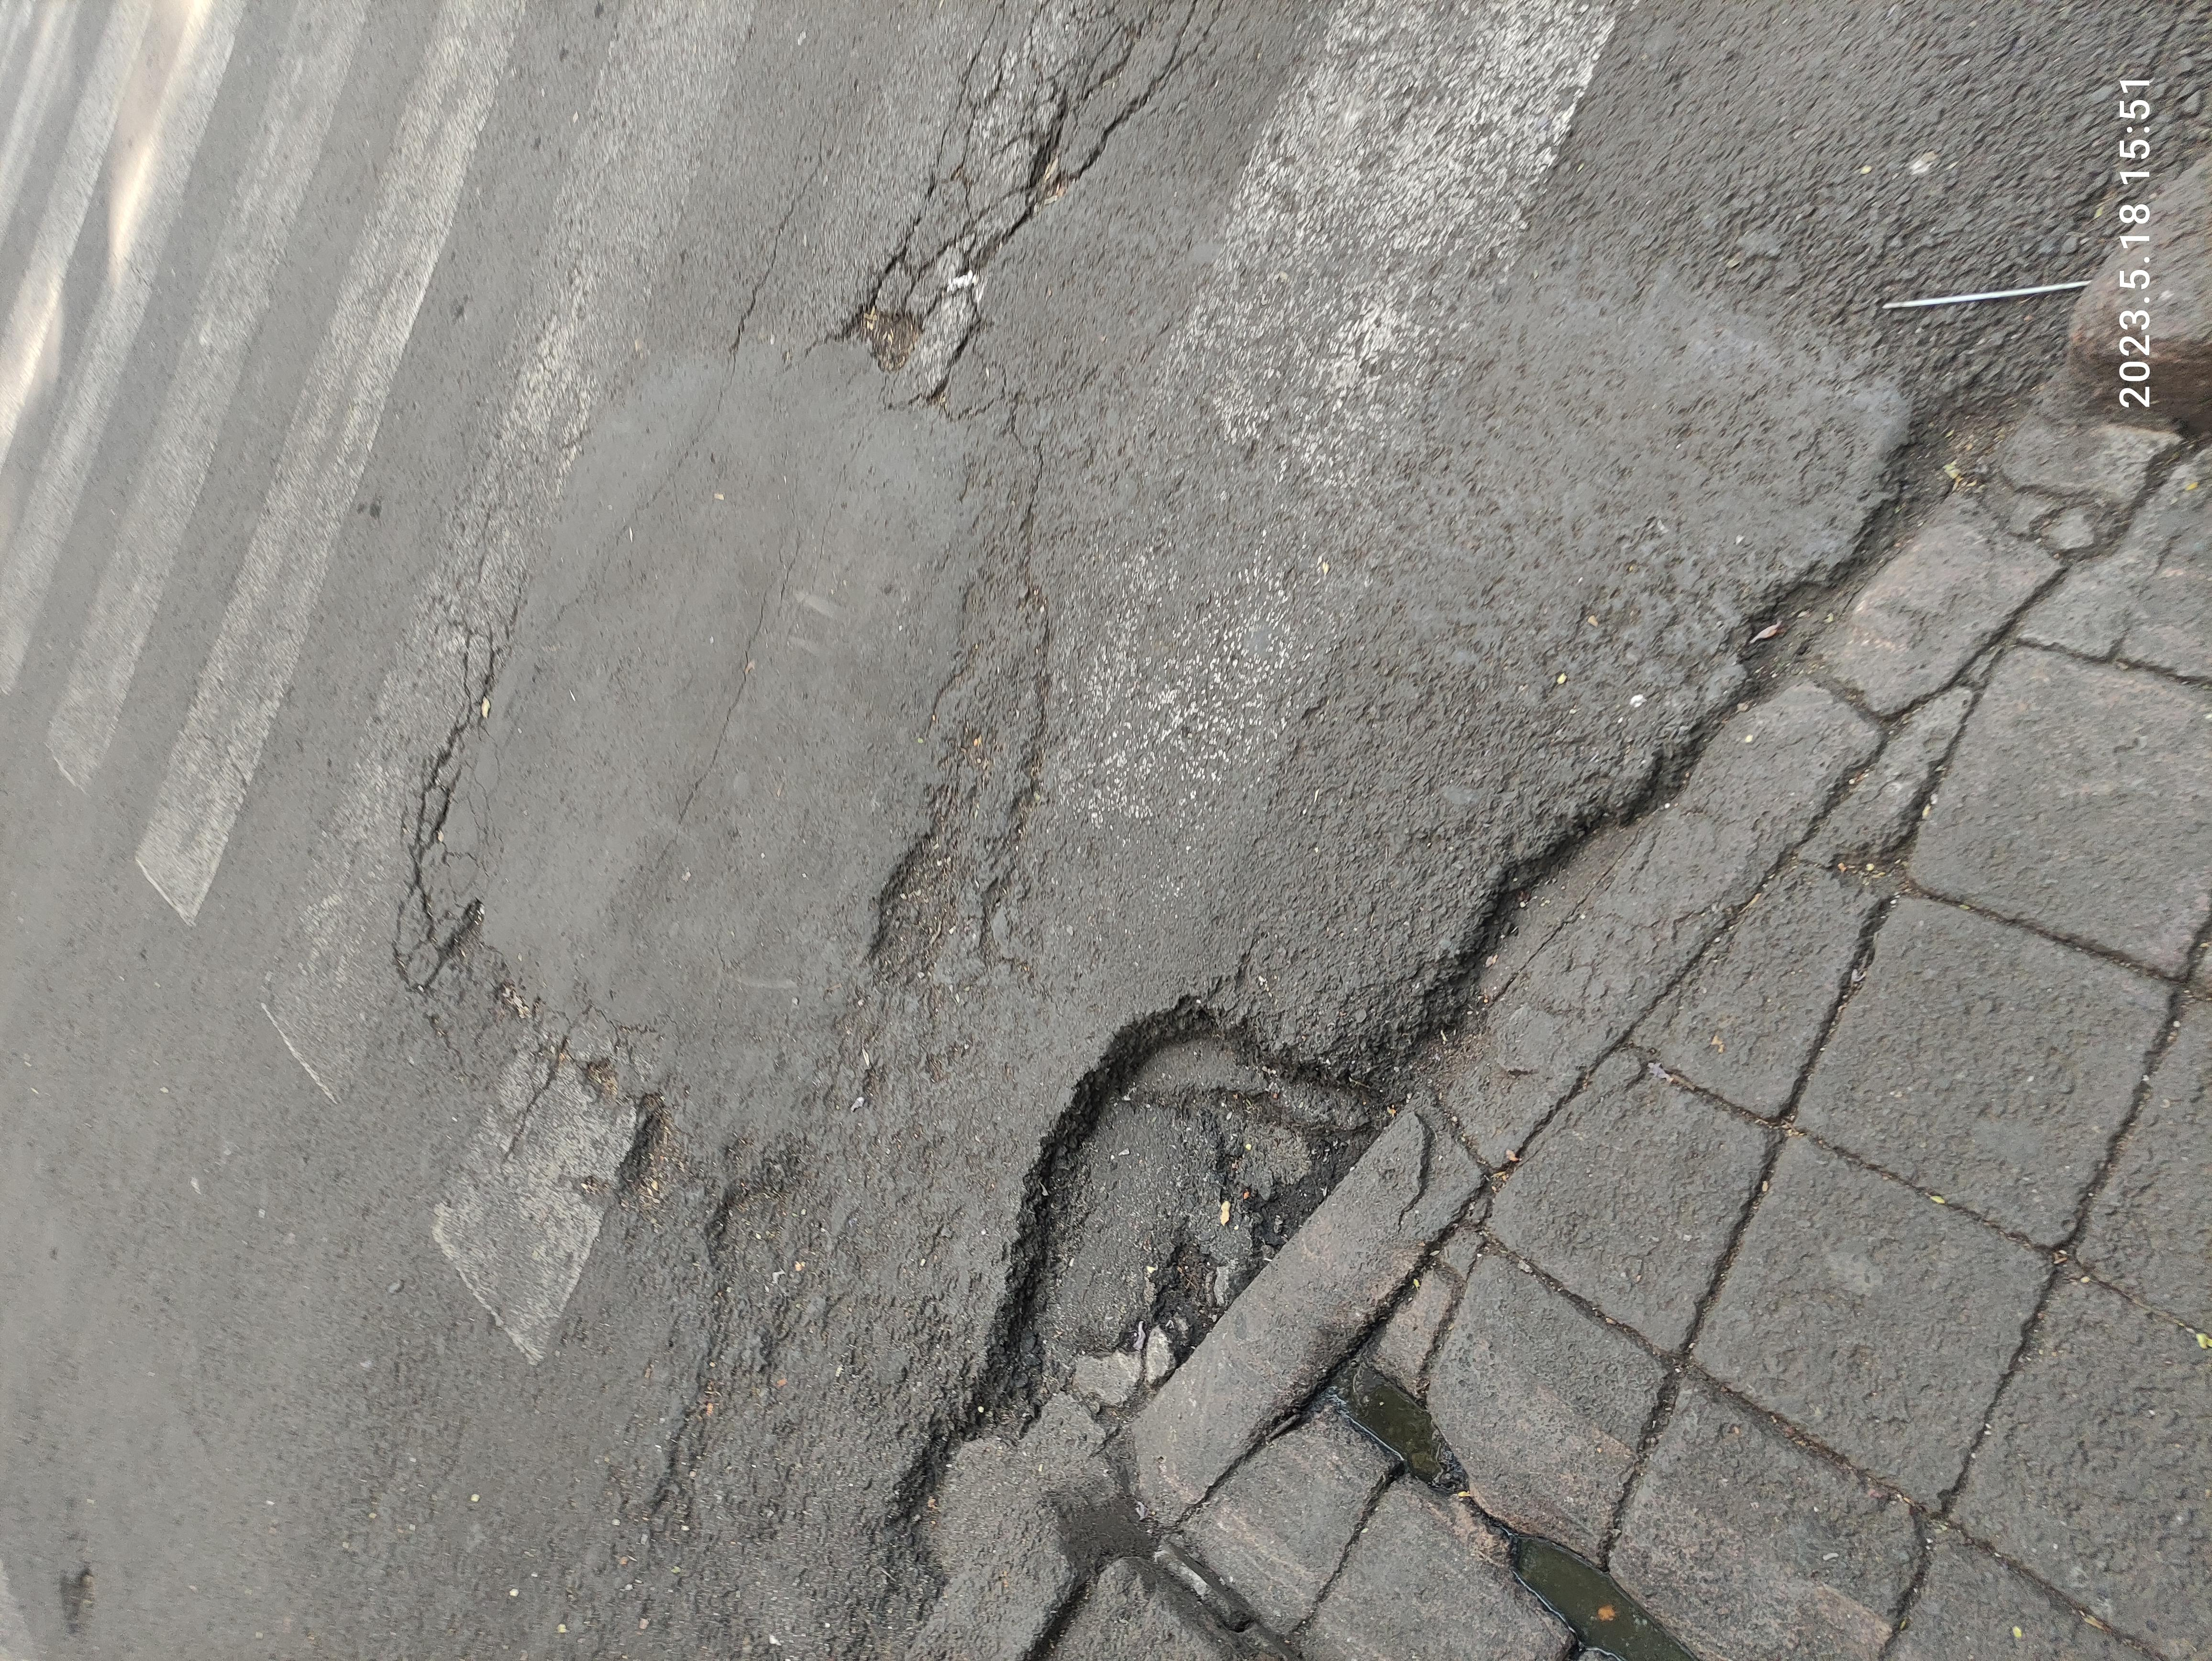crack: (715, 974, 1708, 1520)
pothole: (99, 679, 872, 1019)
